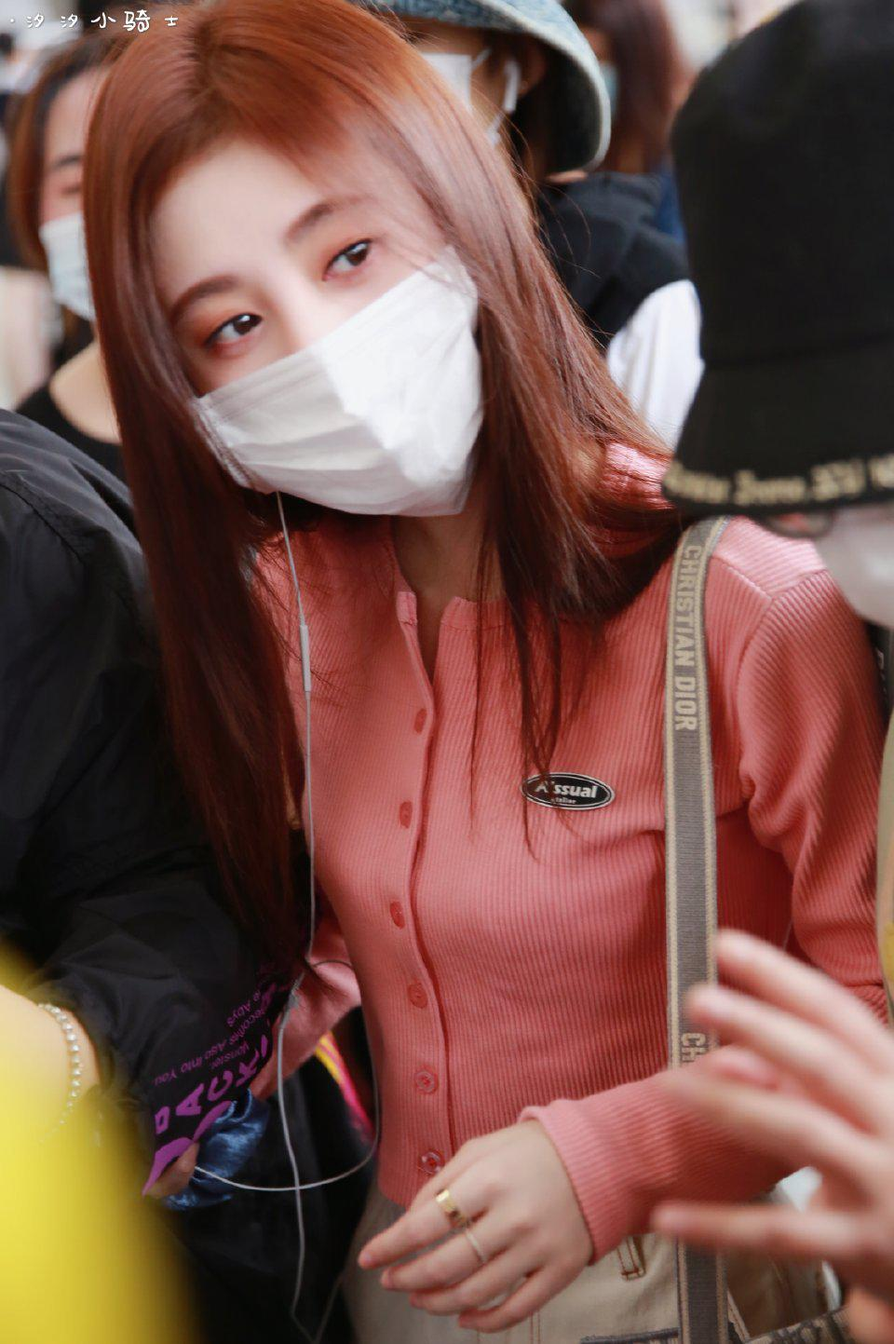OK: (161, 177, 487, 515)
